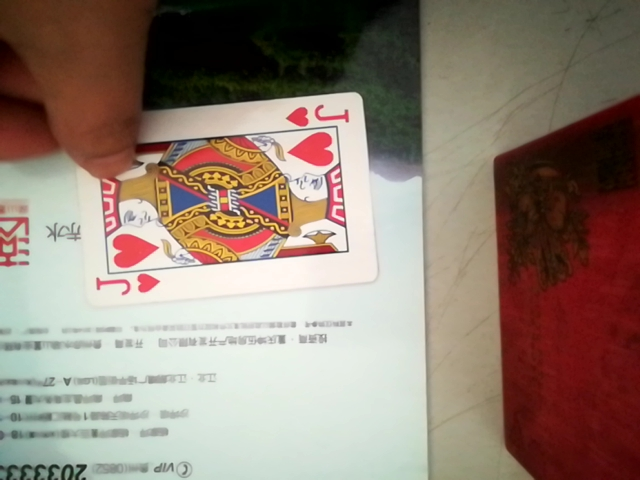hx j: (80, 89, 376, 311)
